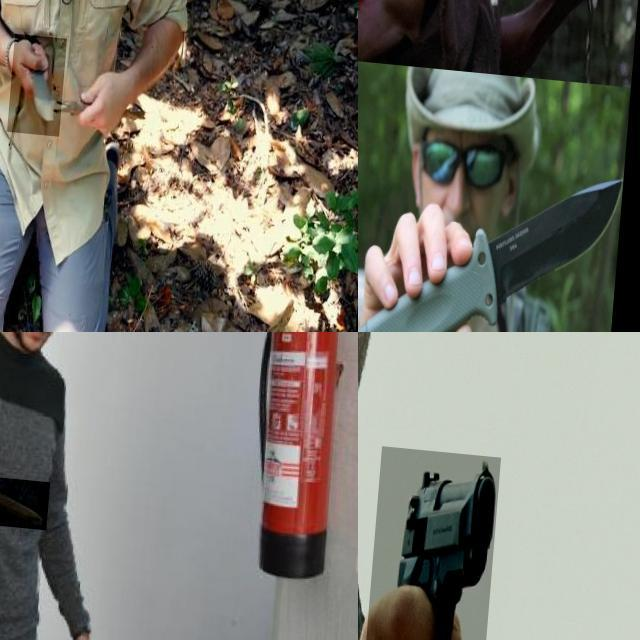-: (358, 123, 631, 332), (495, 0, 613, 100), (358, 146, 461, 241), (13, 28, 71, 130), (358, 0, 417, 100), (0, 471, 56, 525)
gun-knife-thesis - v11 Yolov5 augmented: (373, 439, 507, 640)
